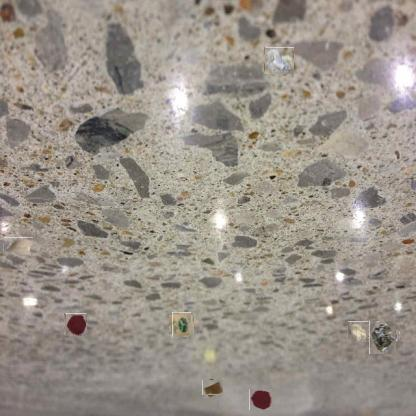dirty: (368, 322, 398, 353), (264, 47, 294, 74), (3, 237, 33, 256), (171, 314, 192, 336), (348, 322, 369, 342), (204, 378, 222, 397)
liquid: (64, 313, 87, 336), (249, 388, 272, 411)
